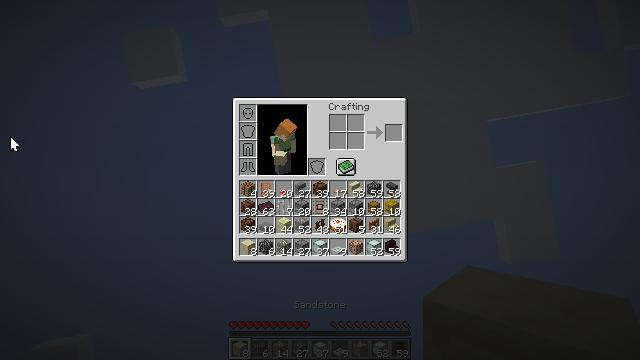cursor: (10, 136, 20, 152)
